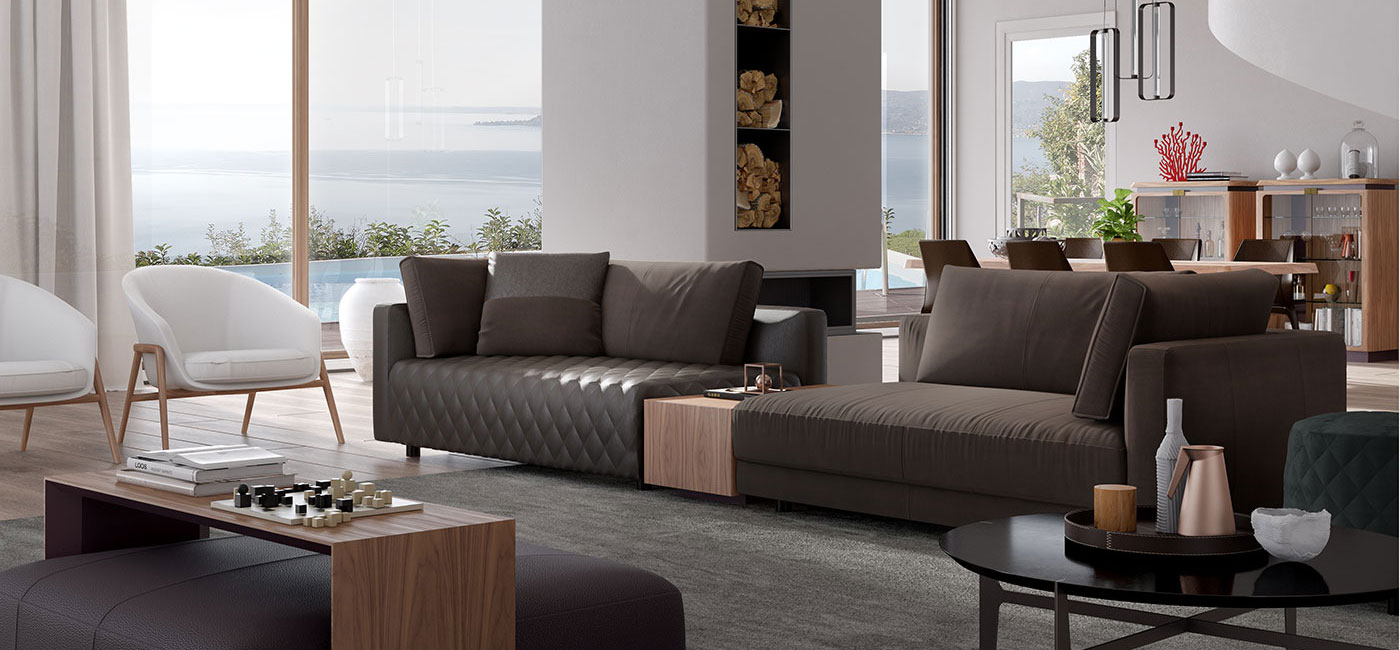bantal: (607, 260, 757, 369), (404, 256, 485, 356), (482, 295, 599, 358)
buku: (119, 444, 294, 500)
kursi: (118, 259, 346, 441), (1, 273, 124, 460)
lukisan: (731, 1, 795, 234)
meja: (36, 456, 520, 615), (947, 495, 1399, 650)
sova: (749, 267, 1344, 504), (368, 250, 664, 482)
tanaman: (1097, 185, 1140, 241)
